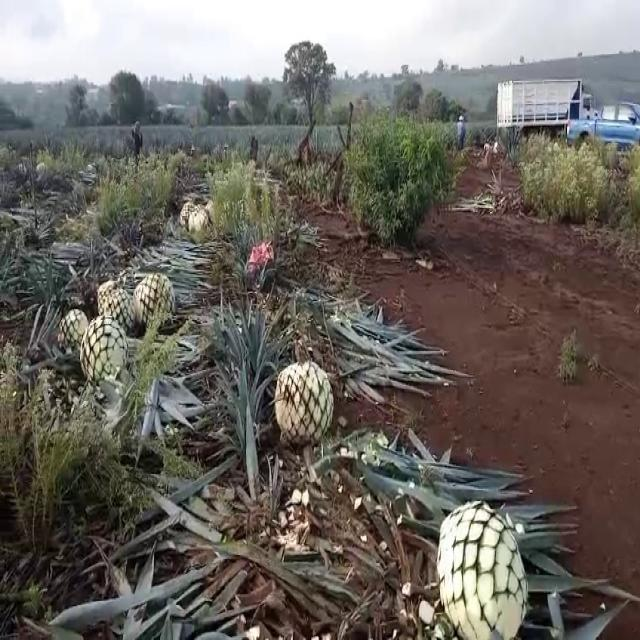agave: (432, 501, 533, 640), (274, 357, 334, 445), (79, 314, 130, 387), (129, 267, 176, 328), (92, 272, 126, 330), (54, 304, 90, 348), (105, 293, 134, 334), (178, 202, 193, 228), (198, 207, 210, 233), (187, 204, 198, 225)
